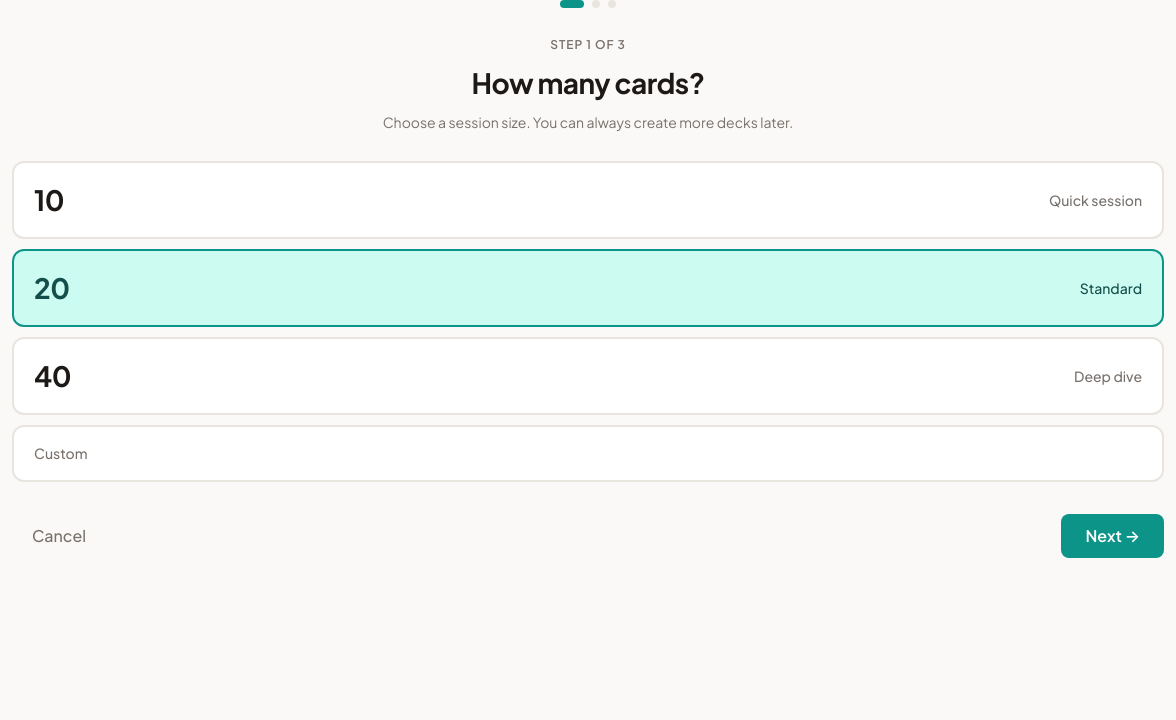
Test: DeckConfigPanel — step 2, practice mode › lists every practice mode with its description
Click the button "Next →" at (1113, 536), box 1061,514 -> 1164,558
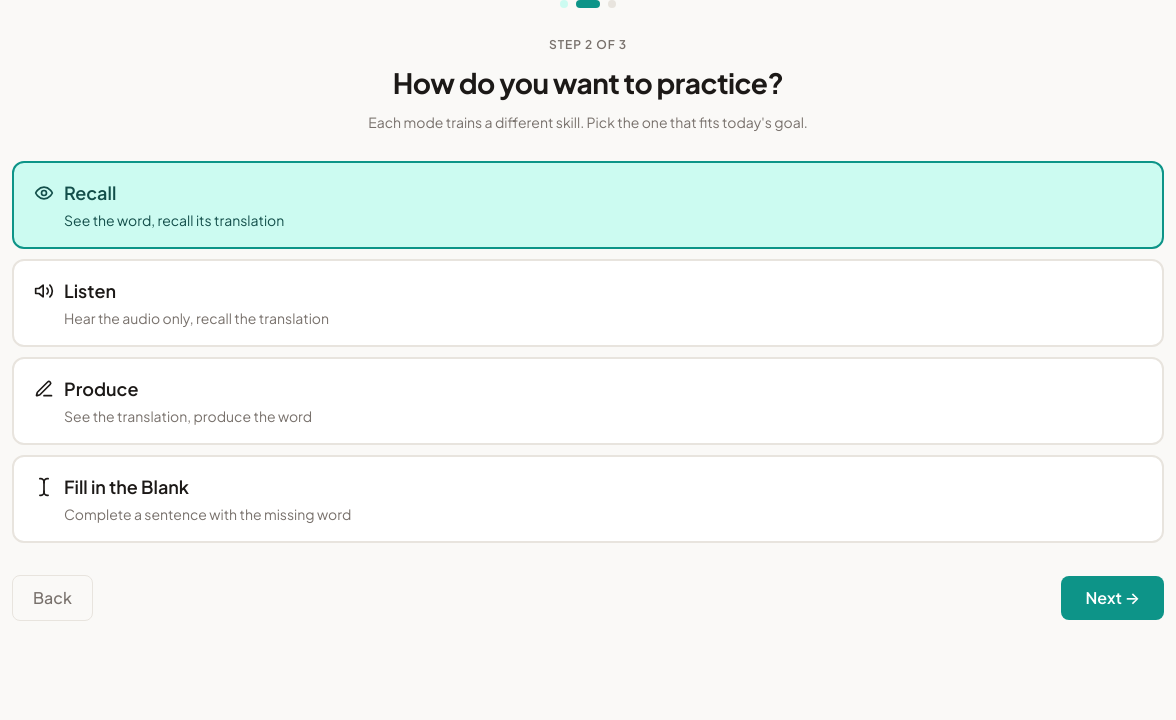
Result: the heading "How do you want to practice?" is shown at 393,65 -> 783,100
Result: the text "See the word, recall its translation" is shown at 34,210 -> 284,231
Result: the text "Hear the audio only, recall the translation" is shown at 34,308 -> 329,329
